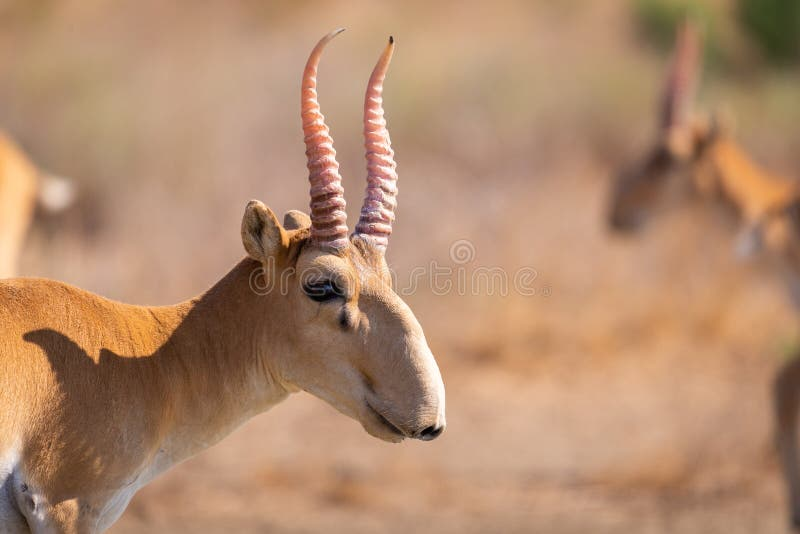saiga: (4, 26, 451, 534)
